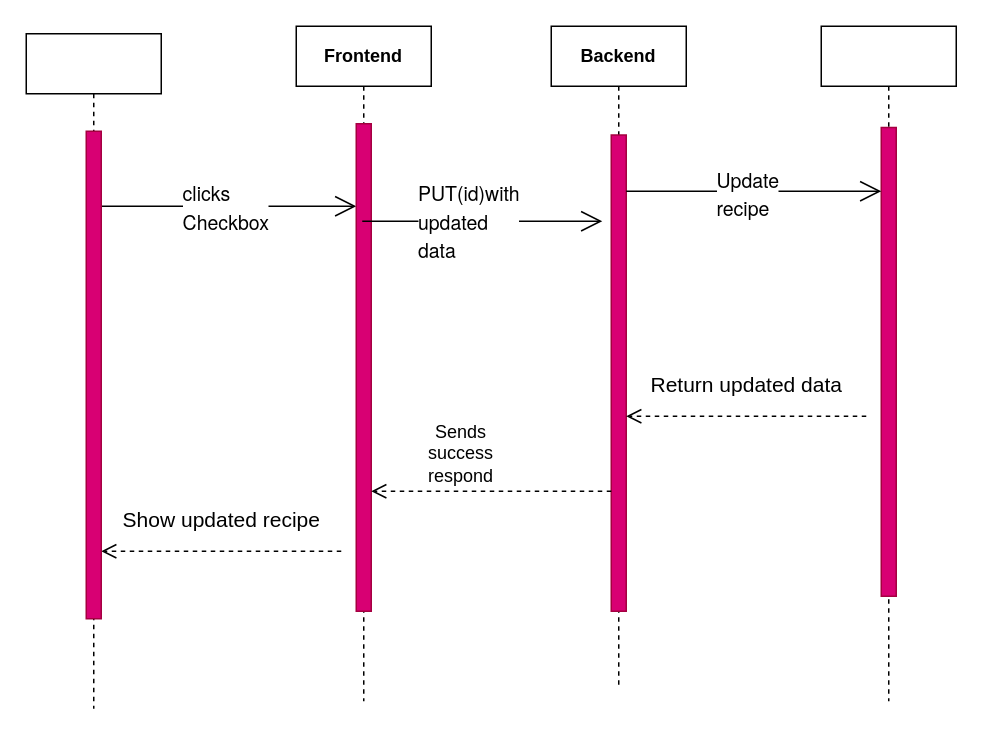
The diagram is 983 pixels wide and 735 high, and some of its shapes have lost their labels. The centre of each missing label's shape, as x and y in pixels:
"Database" belongs at (x=888, y=363).
"User" belongs at (x=93, y=370).
